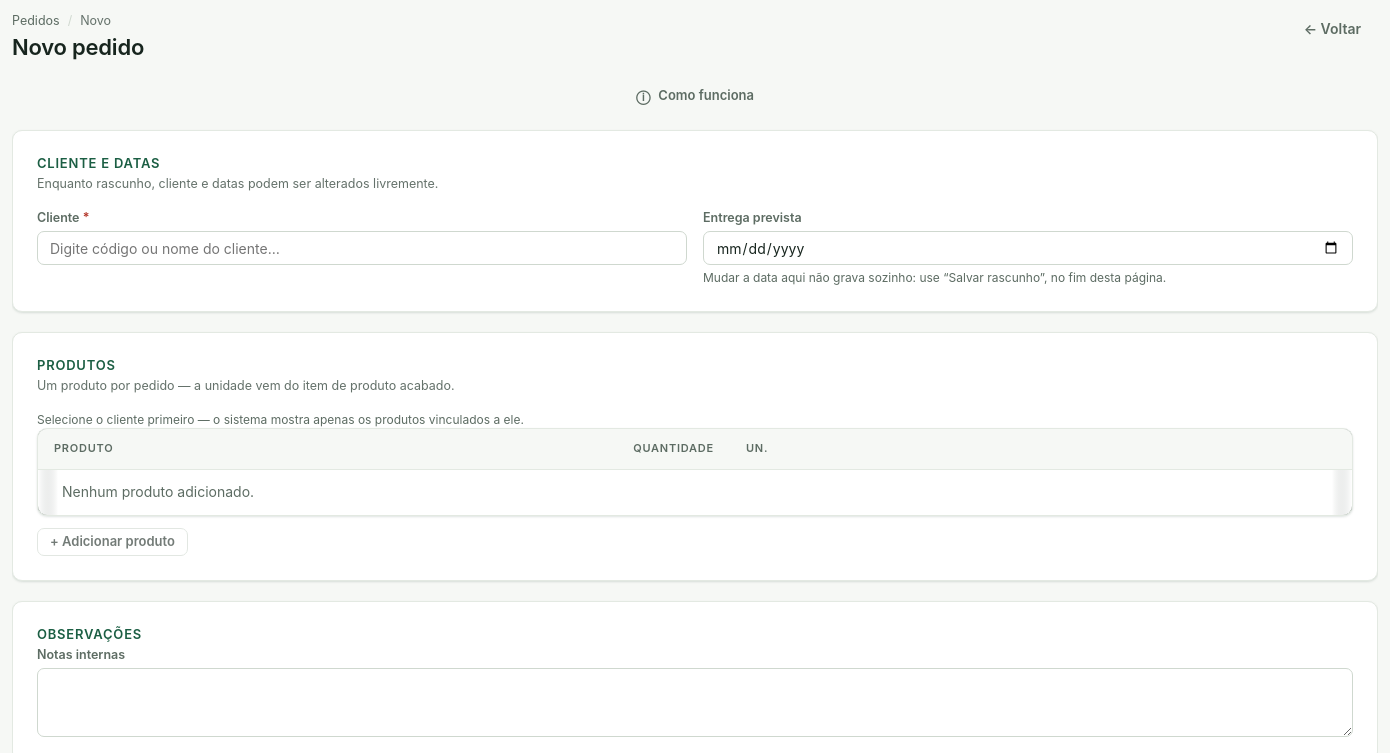
Test: Pedido do Cliente — o produto vem do cliente do pedido › B/C. escolhido o cliente A, o catálogo pedido é o de A — e o produto de B não aparece
Click the dropdown with id "co-customer".
click(362, 248)  # box left=37, top=231, right=687, bottom=265
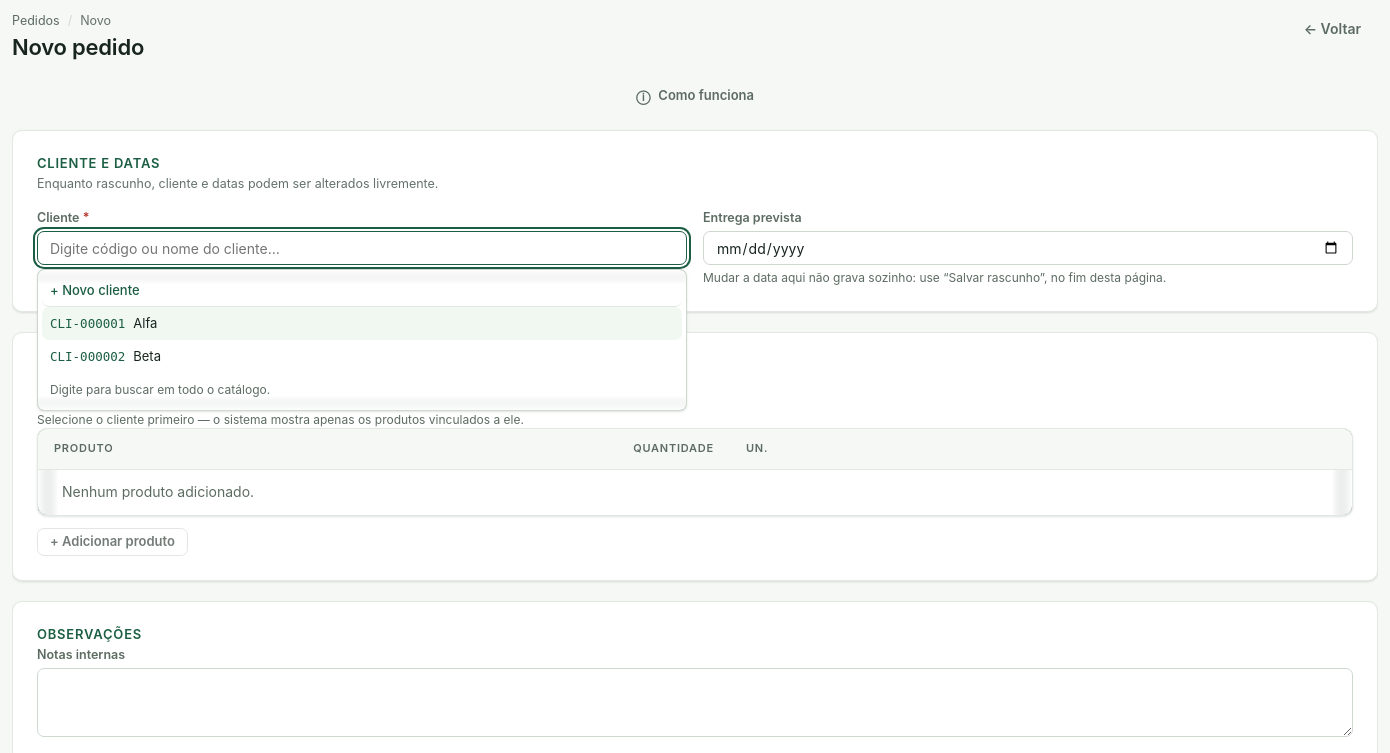
Click the text "Alfa".
click(145, 323)  # box left=133, top=315, right=157, bottom=331
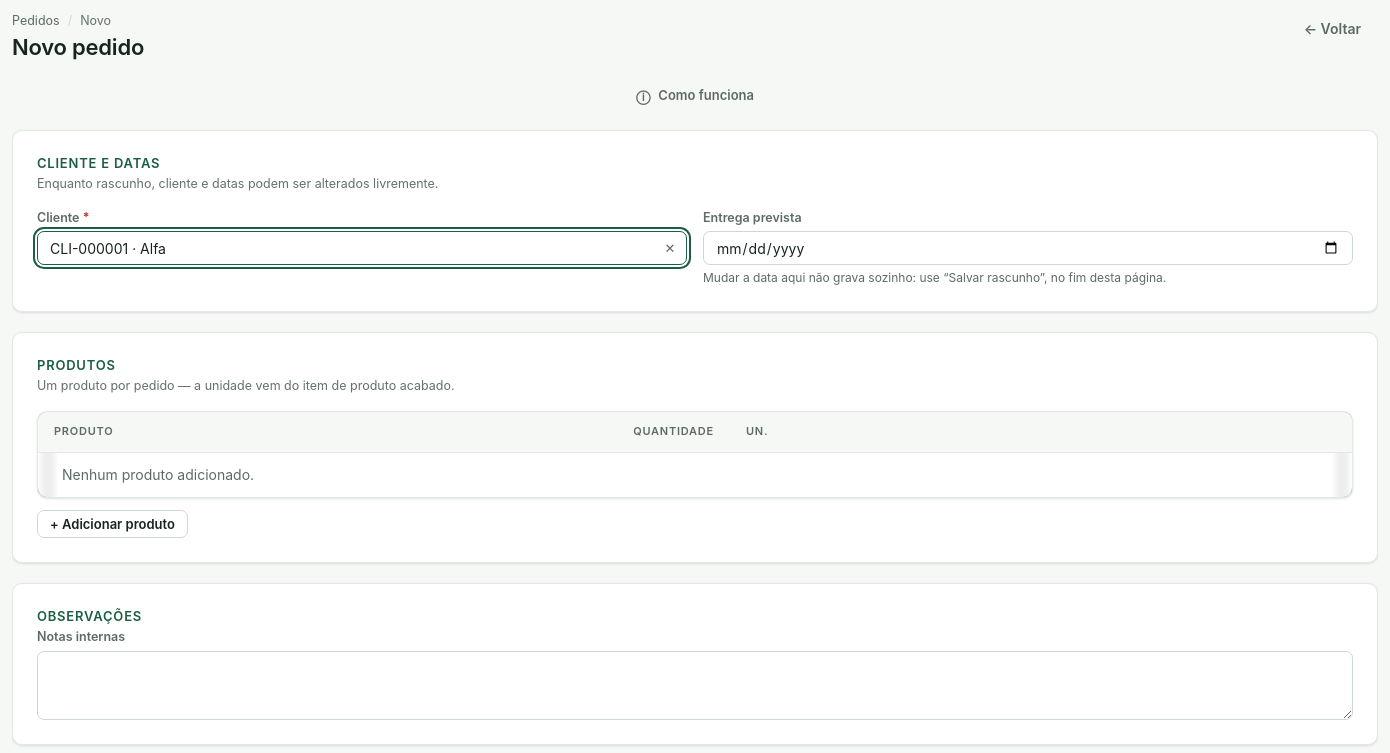
Click the button "+ Adicionar produto".
click(112, 524)  # box left=37, top=510, right=188, bottom=538
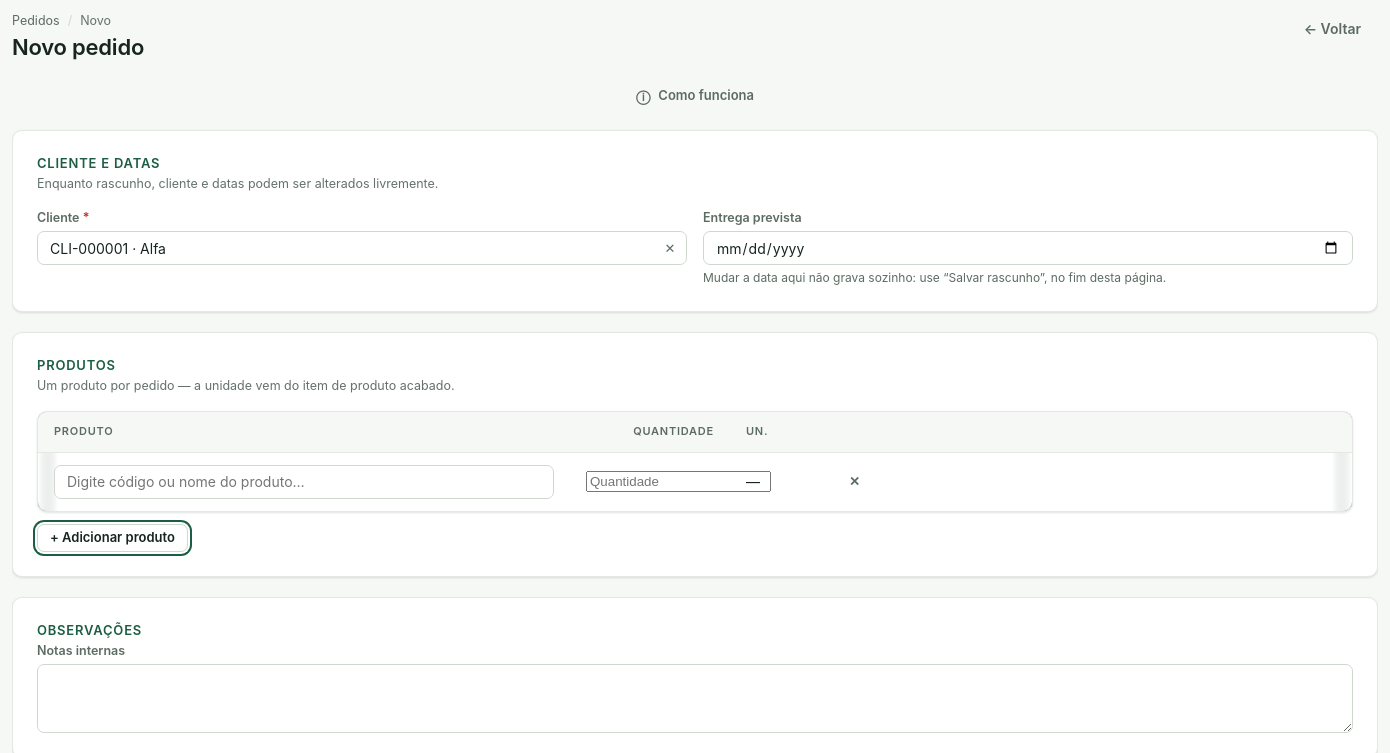
Click the dropdown with placeholder "Digite código ou nome do produto…".
click(304, 482)  # box left=54, top=465, right=554, bottom=499
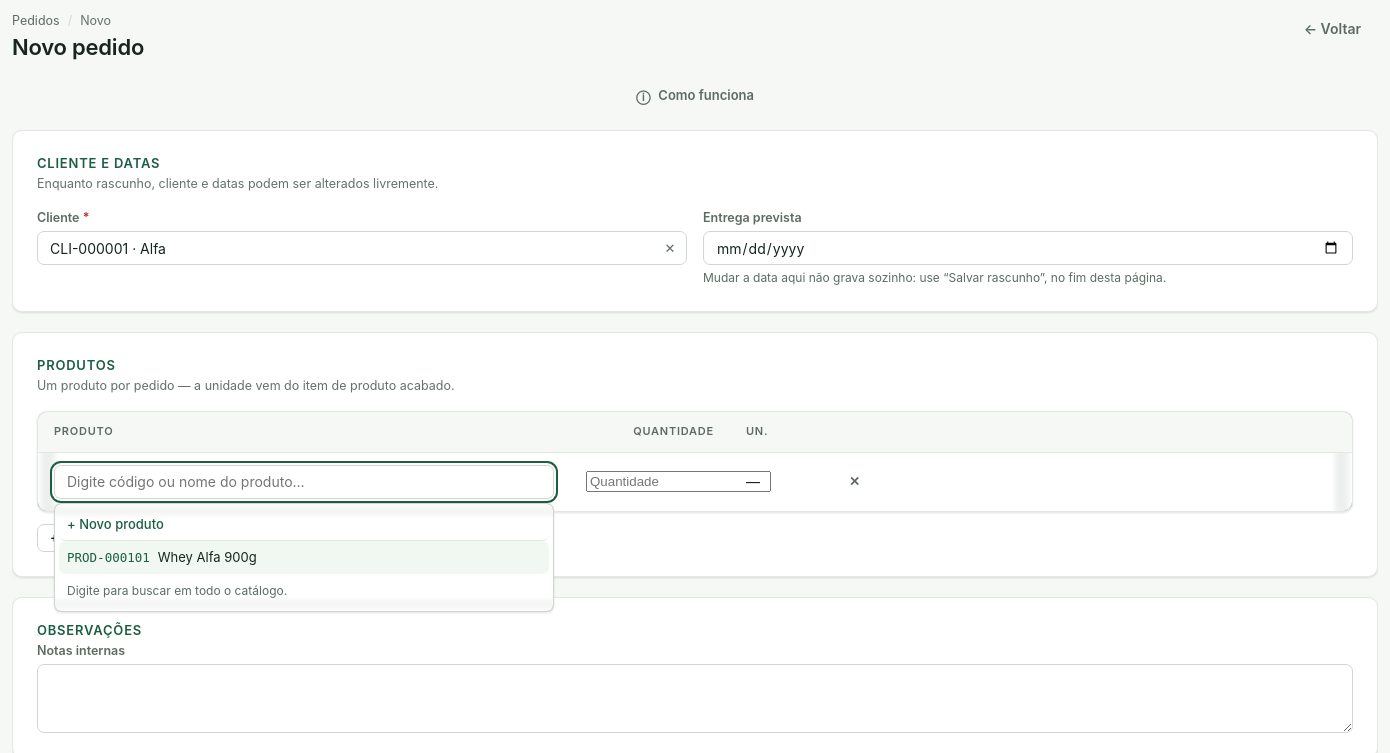
Result: the text "Whey Alfa 900g" is shown at left=158, top=549, right=257, bottom=565
